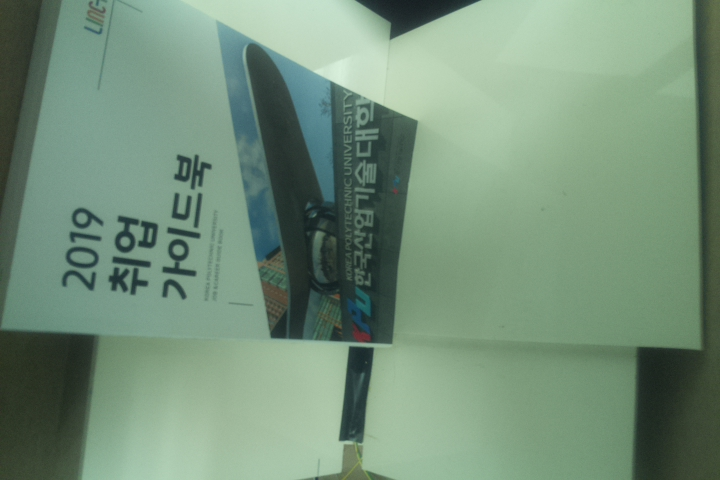book: (1, 1, 422, 349)
